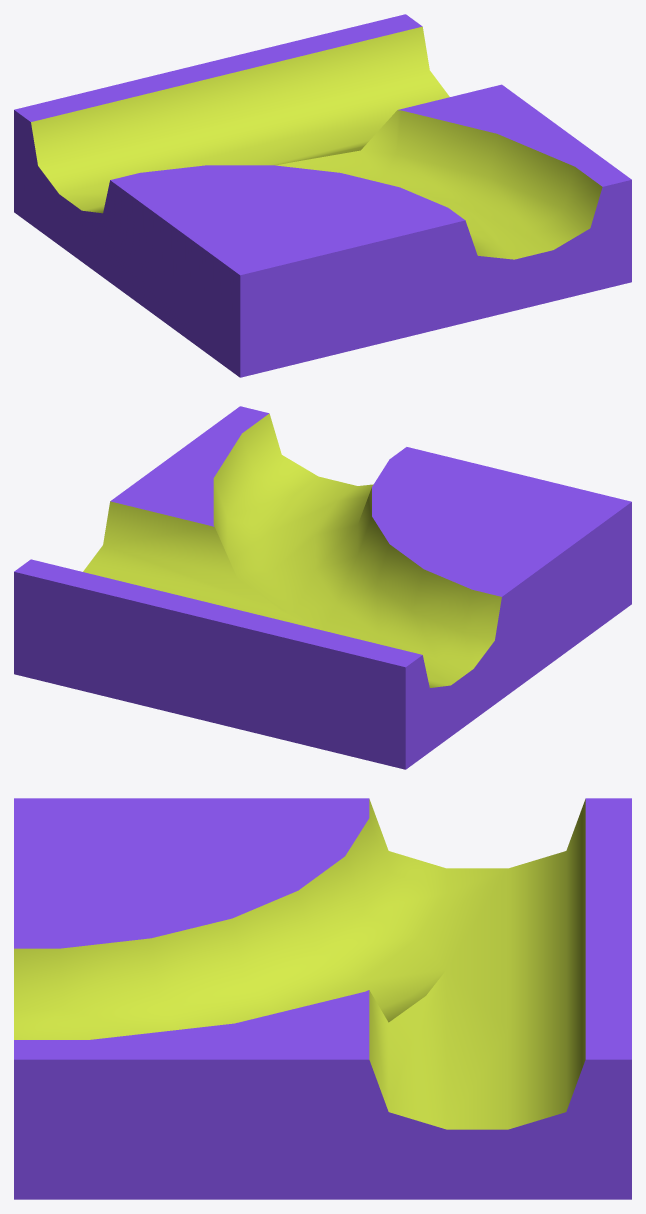
File: split_solid_right.fbx
3 views of the same model, one above another, from view 1: azimuth 30°, elevation 25°; view 2: azimuth 150°, elevation 25°; view 3: azimuth 270°, elevation 25° (orthographic). The views are drawn at different scales.
Parts seen in each view (by area): view 1: split_solid_right; view 2: split_solid_right; view 3: split_solid_right.
Boxes of the visible parts, x1,y1,x2,y2 form: split_solid_right: [14, 14, 631, 377]; split_solid_right: [14, 406, 631, 769]; split_solid_right: [14, 798, 631, 1199].
Bounding box in the file's own units: 20 × 5 × 20.
